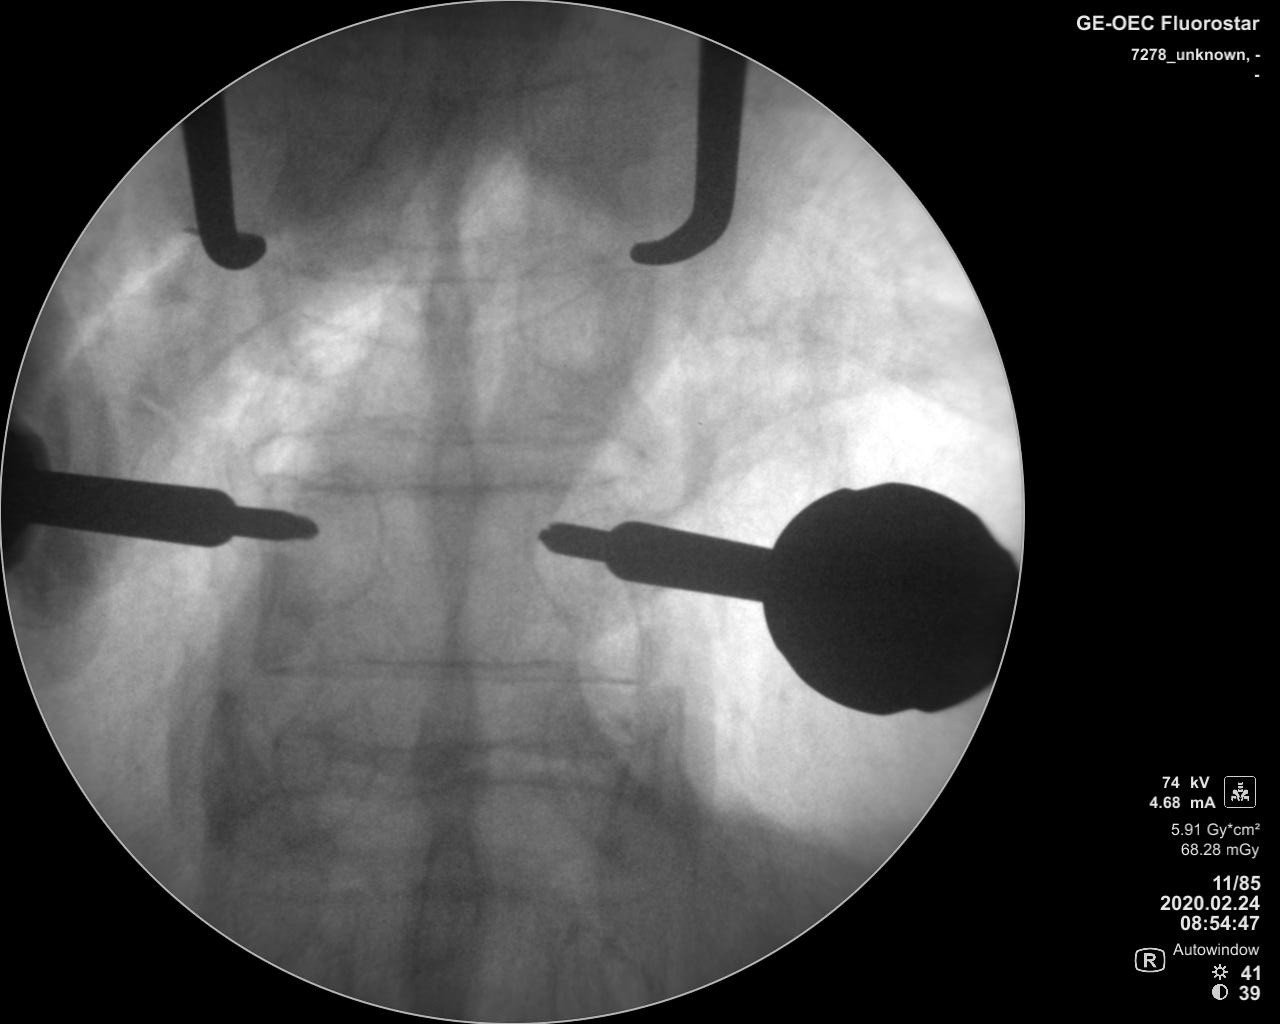eyes: (259, 250, 383, 377), (284, 462, 383, 615), (514, 260, 624, 378)
line: (243, 652, 646, 696), (251, 415, 644, 455), (270, 468, 644, 504)
nose: (410, 814, 487, 980), (418, 408, 483, 589), (417, 629, 480, 810), (414, 232, 476, 378)
